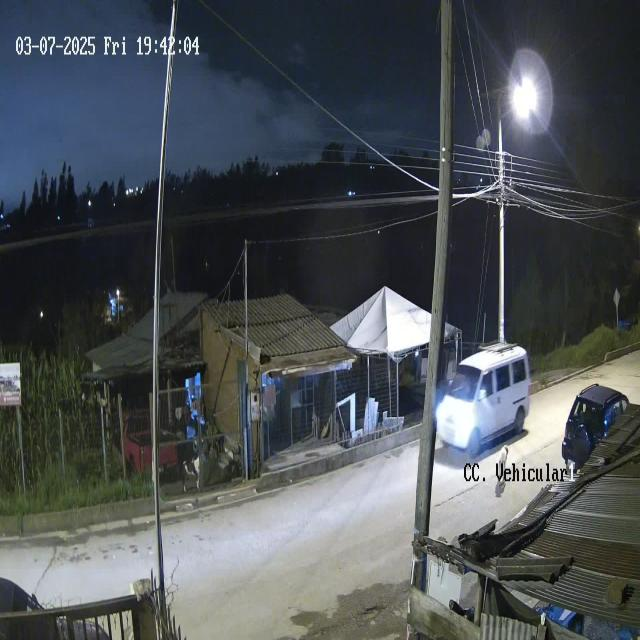BUS: (439, 344, 530, 456)
